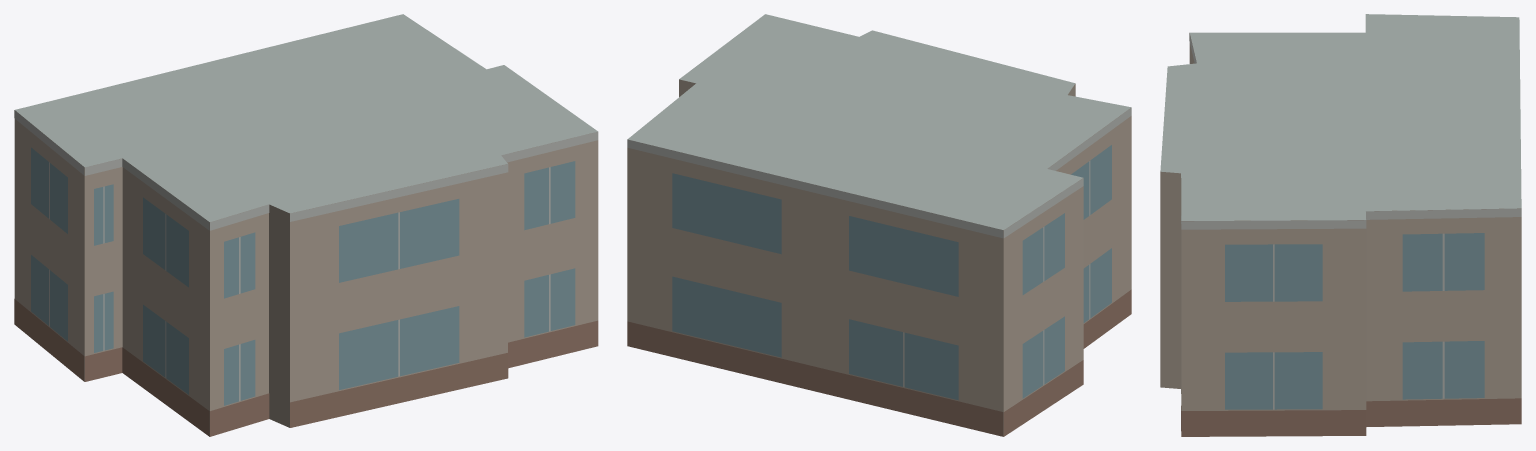
The model's file is survey-upis-32651933.glb.
3 renders of one model, left to right at view 1: azimuth 30°, elevation 25°; view 2: azimuth 150°, elevation 25°; view 3: azimuth 270°, elevation 25°, orthographic. The views are drawn at different scales.
Visible parts, largest first — view 1: survey-upis-32651933.tmp; view 2: survey-upis-32651933.tmp; view 3: survey-upis-32651933.tmp.
Boxes of the visible parts, <box> form: survey-upis-32651933.tmp: <box>14,14,598,436</box>; survey-upis-32651933.tmp: <box>627,14,1131,436</box>; survey-upis-32651933.tmp: <box>1160,14,1521,436</box>.
Size of the model in its own units: 12.57 by 6.1 by 9.27.
